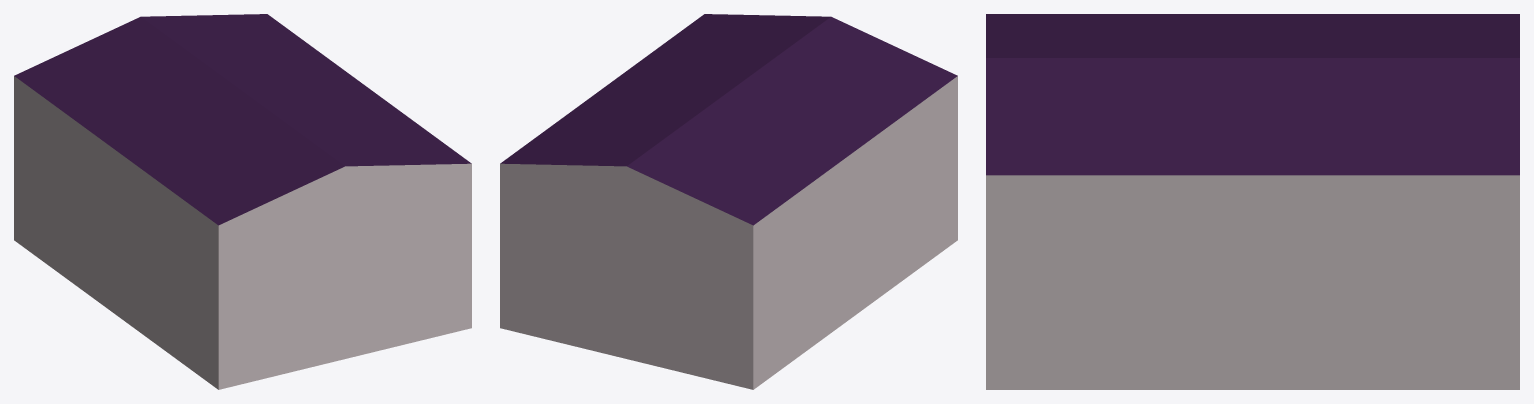
File: house_bb.glb
3 views of the same model, side by side, from view 1: azimuth 30°, elevation 25°; view 2: azimuth 150°, elevation 25°; view 3: azimuth 270°, elevation 25° (orthographic). The views are drawn at different scales.
Parts seen in each view (by area): view 1: house_col.002; view 2: house_col.002; view 3: house_col.002.
Boxes of the visible parts, bbox=[...] form: house_col.002: bbox=[14, 14, 471, 389]; house_col.002: bbox=[500, 14, 957, 389]; house_col.002: bbox=[986, 14, 1519, 389].
Bounding box in the file's own units: 3.29 × 2.39 × 4.6.
